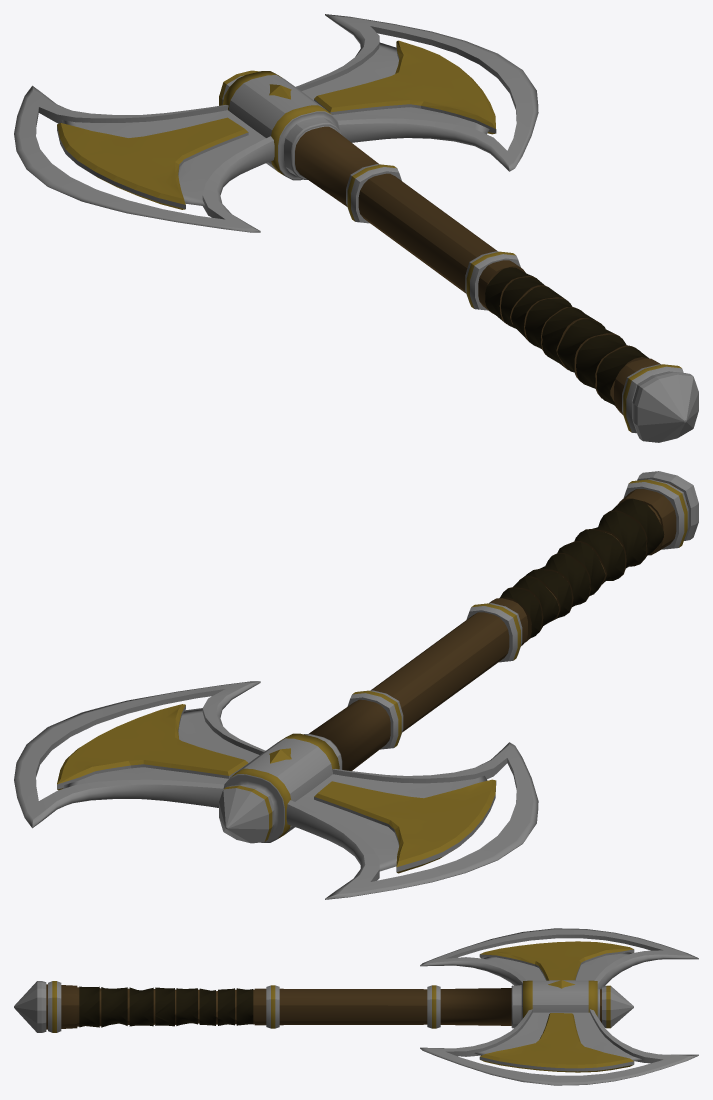
The model's file is battleaxe.fbx.
3 views of the same model, one above another, from view 1: azimuth 30°, elevation 25°; view 2: azimuth 150°, elevation 25°; view 3: azimuth 270°, elevation 25° (orthographic). The views are drawn at different scales.
Parts seen in each view (by area): view 1: battleaxe; view 2: battleaxe; view 3: battleaxe.
Boxes of the visible parts, x1,y1,x2,y2 form: battleaxe: [14, 14, 698, 442]; battleaxe: [14, 471, 698, 899]; battleaxe: [14, 928, 698, 1085].
Bounding box in the file's own units: 53.06 × 8.49 × 97.97.
